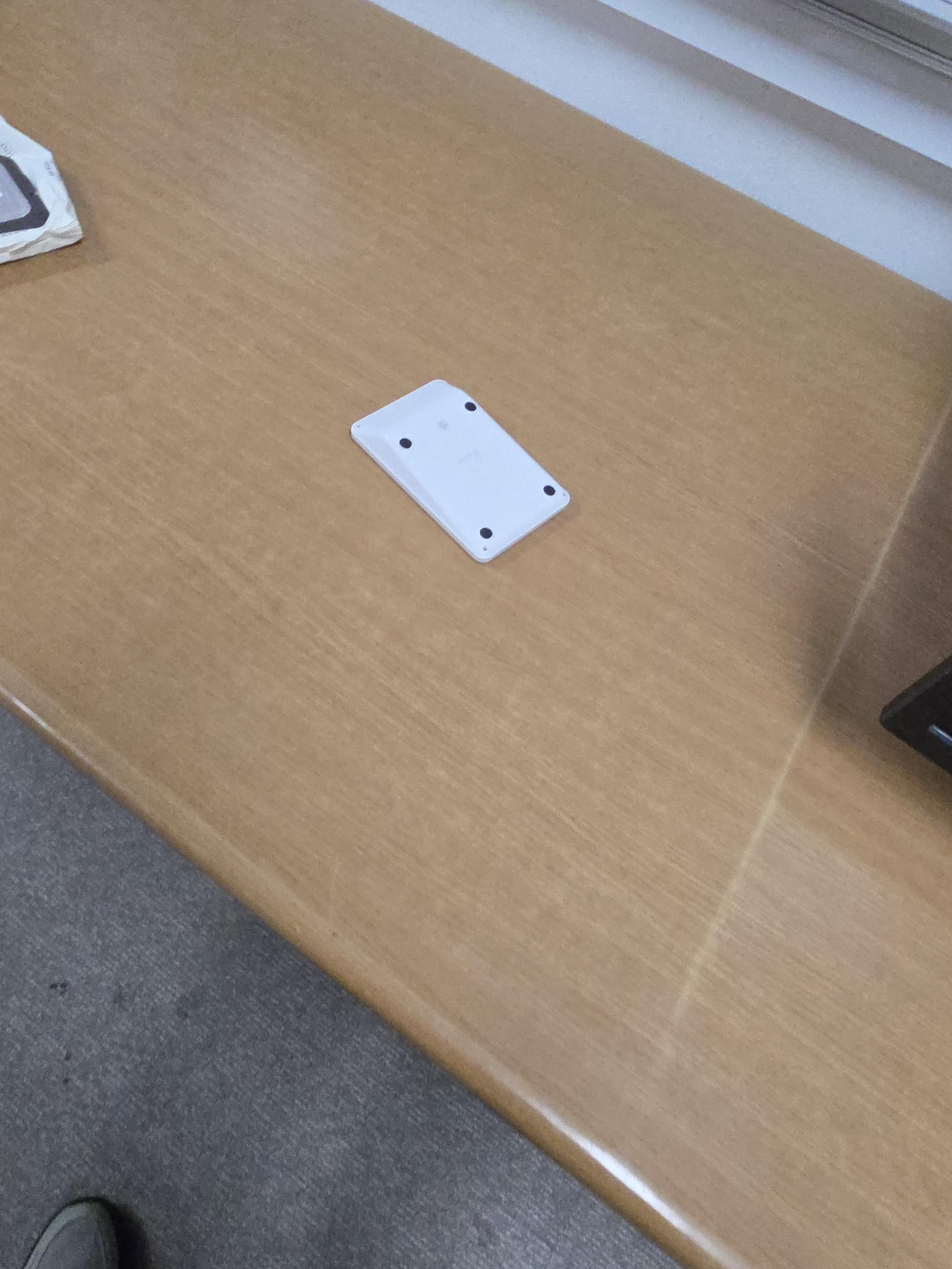calculator: (349, 378, 572, 564)
tissue: (0, 114, 84, 265)
